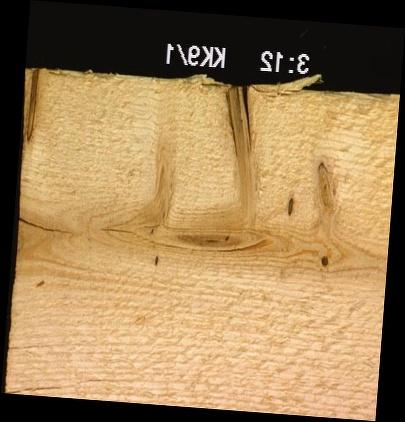dry_knot: (221, 84, 265, 216), (27, 67, 38, 141), (319, 253, 329, 268)
split: (18, 217, 75, 233), (97, 226, 138, 234)
